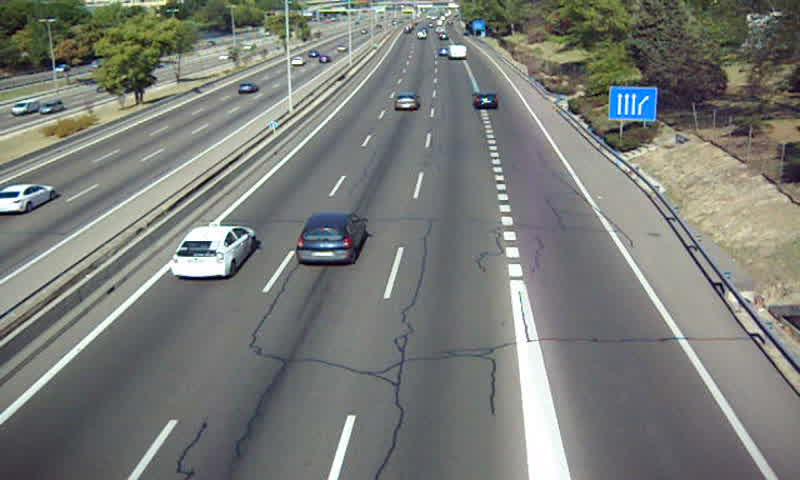car: (170, 226, 256, 278), (295, 213, 367, 266), (393, 93, 419, 113), (471, 91, 499, 108)
van: (447, 45, 467, 58)
